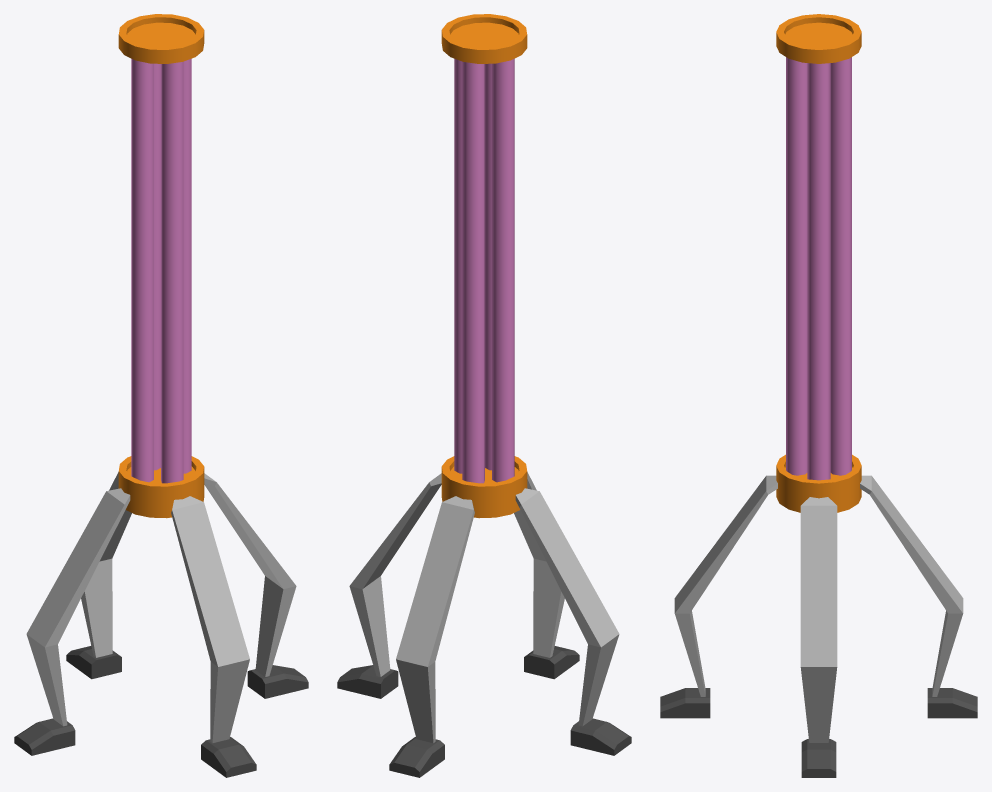
The model's file is Lamp01.fbx.
3 renders of one model, left to right at view 1: azimuth 30°, elevation 25°; view 2: azimuth 150°, elevation 25°; view 3: azimuth 270°, elevation 25°, orthographic.
Visible parts, largest first — view 1: SM_Lamp01; view 2: SM_Lamp01; view 3: SM_Lamp01.
Part boxes in pixels (x1,y1,x2,y2): SM_Lamp01: [14, 14, 308, 777]; SM_Lamp01: [337, 14, 631, 777]; SM_Lamp01: [660, 14, 977, 777].
Bounding box in the file's own units: 72 × 170 × 72.
